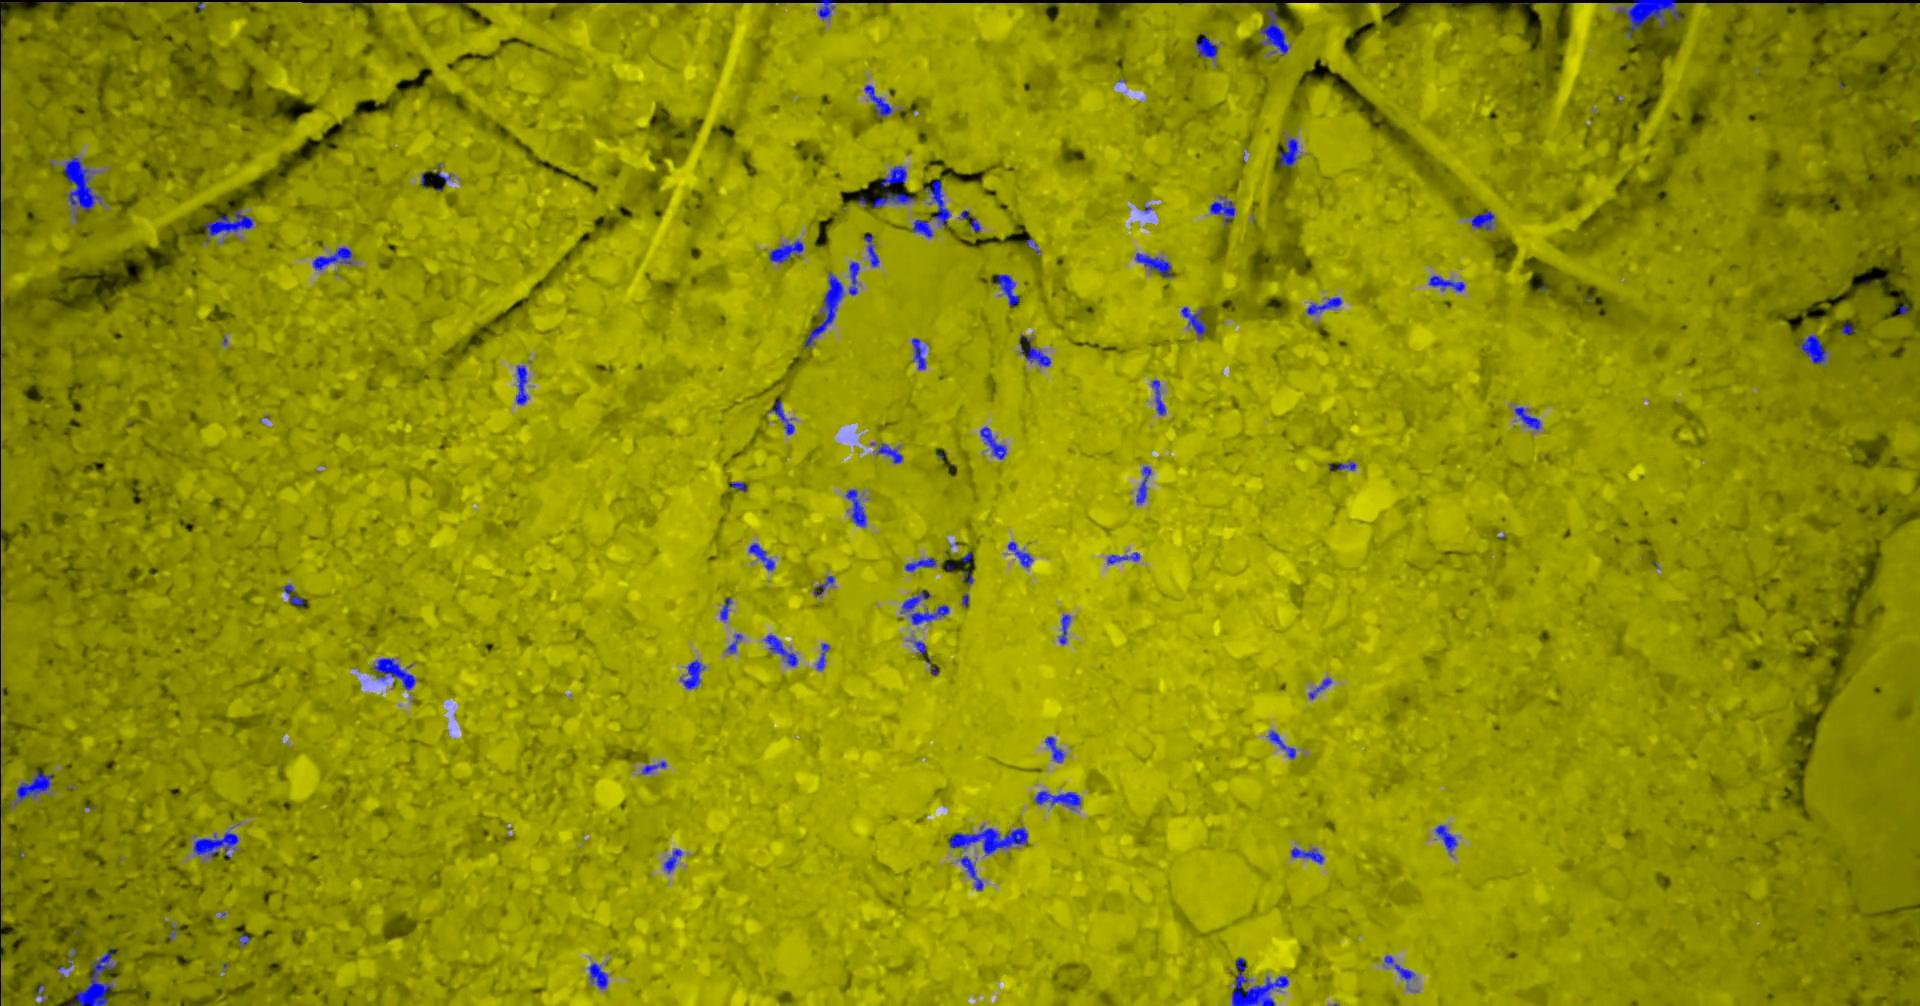ant: (805, 272, 844, 347), (1233, 956, 1290, 1005), (76, 948, 119, 1005), (1619, 0, 1683, 38), (950, 826, 1029, 855), (65, 156, 104, 211), (902, 589, 950, 624), (1261, 3, 1290, 55), (375, 657, 417, 688), (924, 178, 952, 225), (17, 768, 53, 803), (204, 210, 254, 235), (196, 831, 240, 857), (766, 634, 799, 666), (314, 246, 354, 271), (1137, 251, 1175, 277), (1021, 334, 1051, 366), (866, 84, 894, 117), (982, 426, 1008, 459), (771, 400, 796, 434), (1036, 790, 1082, 809), (961, 855, 985, 890), (1385, 954, 1417, 981), (847, 488, 869, 526), (1801, 334, 1829, 363), (1269, 730, 1297, 758), (681, 659, 707, 688), (1182, 306, 1208, 337), (770, 240, 805, 262), (997, 274, 1021, 306), (874, 191, 917, 207), (1211, 196, 1237, 224), (750, 542, 776, 570), (1308, 296, 1343, 314), (1010, 541, 1034, 567), (1436, 824, 1458, 852), (1281, 137, 1302, 166), (1516, 406, 1542, 429), (1137, 465, 1152, 503), (1197, 33, 1219, 58), (1430, 276, 1465, 291), (877, 443, 904, 464), (883, 165, 908, 185), (1153, 379, 1167, 415), (1046, 735, 1065, 762), (590, 962, 610, 988), (1291, 847, 1324, 862), (517, 365, 530, 404), (1310, 677, 1333, 699), (865, 234, 880, 265), (284, 584, 307, 605), (913, 337, 927, 370), (665, 848, 684, 873), (905, 558, 937, 572), (1473, 210, 1496, 229), (963, 210, 982, 232), (913, 218, 935, 238), (850, 260, 861, 295), (815, 575, 836, 594), (1109, 551, 1142, 563), (1060, 614, 1072, 644), (818, 0, 837, 18), (818, 643, 830, 669), (643, 761, 668, 774), (729, 633, 743, 653), (721, 597, 733, 620), (912, 639, 928, 654), (1330, 461, 1357, 470), (731, 481, 748, 492)
